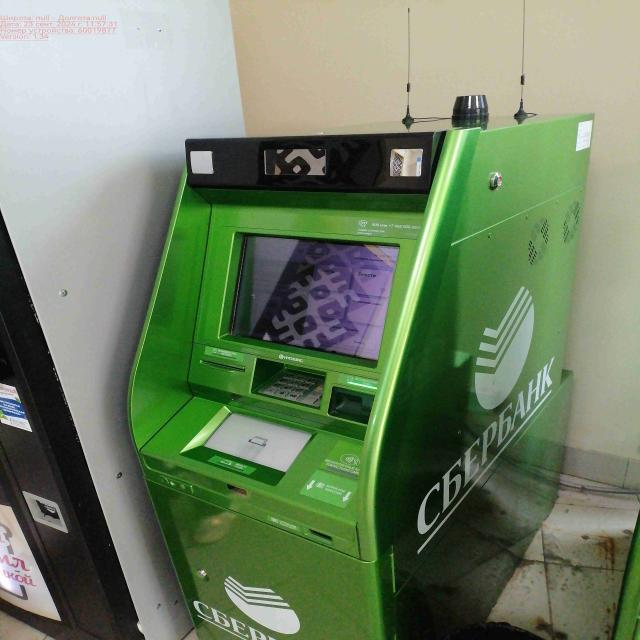bank: (121, 111, 594, 640)
